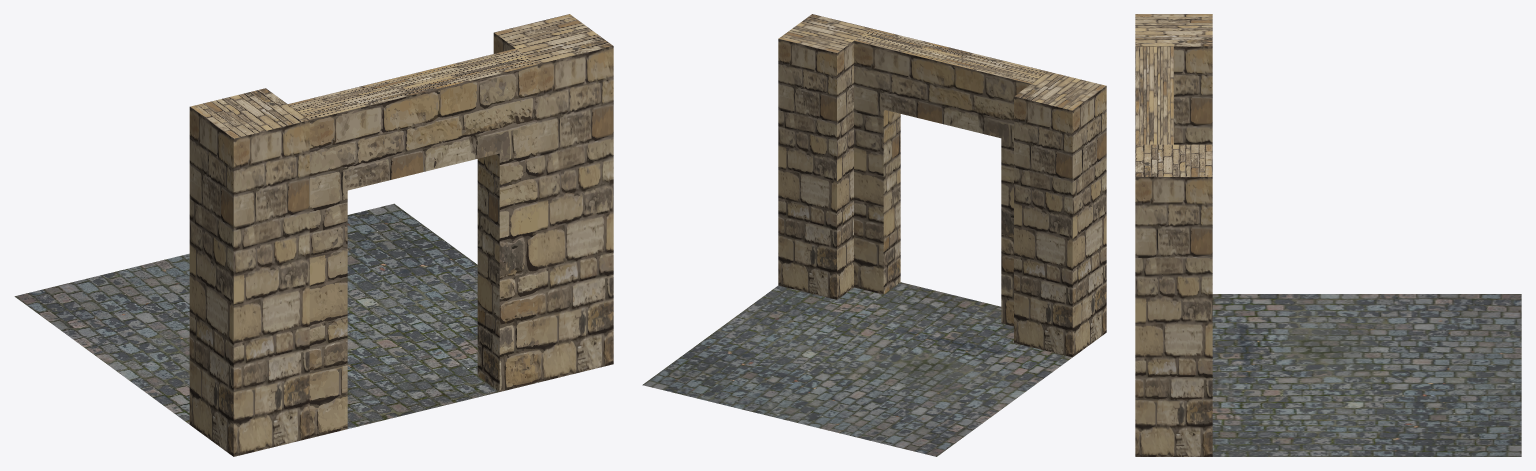
Rendered from 1-NESW-southDoor.fbx.
3 renders of one model, left to right at view 1: azimuth 30°, elevation 25°; view 2: azimuth 150°, elevation 25°; view 3: azimuth 270°, elevation 25°, orthographic. The views are drawn at different scales.
Parts seen in each view (by area): view 1: Cube_1, Plane; view 2: Cube_1, Plane; view 3: Plane, Cube_1.
Part boxes in pixels (box(x1,y1,x2,y2)): Cube_1: box(189, 14, 613, 456); Plane: box(14, 203, 498, 428); Cube_1: box(778, 14, 1106, 357); Plane: box(642, 282, 1072, 456); Plane: box(1212, 294, 1521, 456); Cube_1: box(1135, 14, 1212, 456).
Size of the model in its own units: 10 by 8 by 10.
3 materials, 3 textured.
